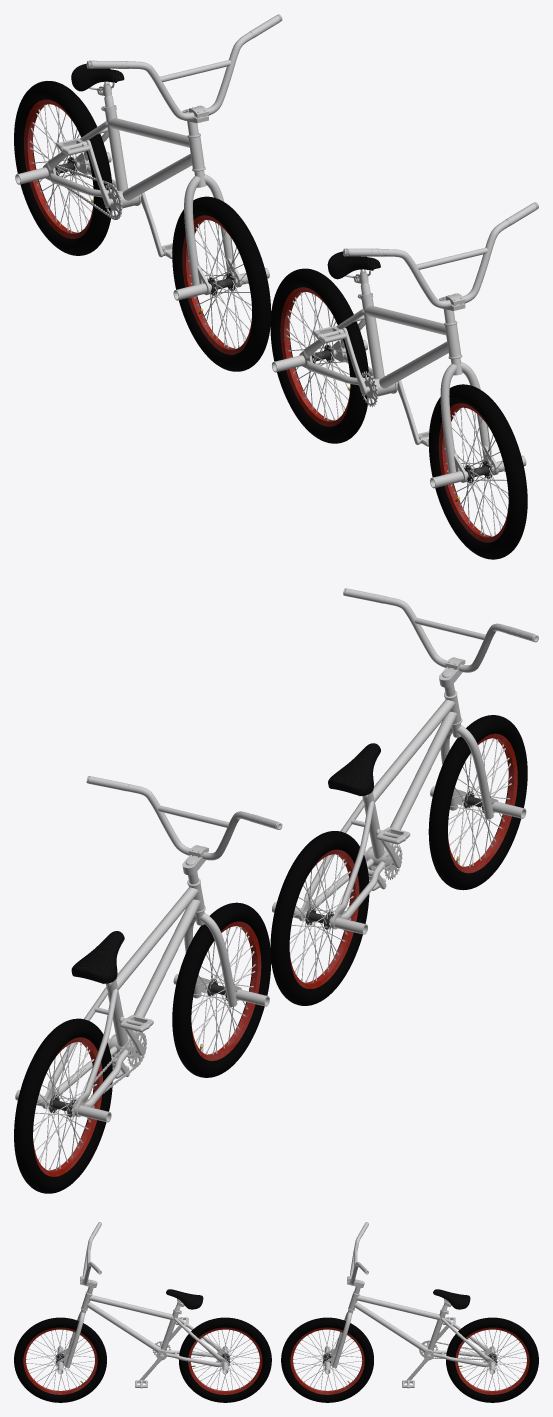
File: Cyclebroken.fbx
3 renders of one model, top to bottom at view 1: azimuth 30°, elevation 25°; view 2: azimuth 150°, elevation 25°; view 3: azimuth 270°, elevation 25°, orthographic. The views are drawn at different scales.
Parts seen in each view (by area): view 1: frame_low_Cylinder.195, tire_low_Torus.001, tire_low.001_Torus.001, frame_low_Cylinder.001, frontframe_low_Cylinder.001, rudder_low_BezierCurve.001, rim_low.001_Cylinder.001, rim_low_Cylinder.001, seater_low_Cube.001; view 2: frame_low_Cylinder.195, frame_low_Cylinder.001, tire_low_Torus.001, tire_low.001_Torus.001, rudder_low_BezierCurve.001, frontframe_low_Cylinder.001, seater_low_Cube.001, rim_low_Cylinder.001, rim_low.001_Cylinder.001; view 3: frame_low_Cylinder.195, tire_low_Torus.001, tire_low.001_Torus.001, frame_low_Cylinder.001, rim_low_Cylinder.001, rim_low.001_Cylinder.001, frontframe_low_Cylinder.001, seater_low_Cube.001, rudder_low_BezierCurve.001.
Part boxes in pixels (left/top/right/bottom): frame_low_Cylinder.195: left=270, top=202, right=538, bottom=559; tire_low_Torus.001: left=172, top=196, right=271, bottom=371; tire_low.001_Torus.001: left=14, top=81, right=112, bottom=255; frame_low_Cylinder.001: left=42, top=105, right=204, bottom=210; frontframe_low_Cylinder.001: left=184, top=109, right=242, bottom=295; rudder_low_BezierCurve.001: left=86, top=14, right=282, bottom=120; rim_low.001_Cylinder.001: left=24, top=99, right=93, bottom=238; rim_low_Cylinder.001: left=182, top=215, right=251, bottom=354; seater_low_Cube.001: left=71, top=63, right=124, bottom=91; frame_low_Cylinder.195: left=270, top=588, right=538, bottom=1005; frame_low_Cylinder.001: left=42, top=884, right=204, bottom=1117; tire_low_Torus.001: left=172, top=902, right=271, bottom=1077; tire_low.001_Torus.001: left=14, top=1018, right=112, bottom=1193; rudder_low_BezierCurve.001: left=86, top=776, right=282, bottom=860; frontframe_low_Cylinder.001: left=184, top=858, right=241, bottom=1006; seater_low_Cube.001: left=71, top=931, right=124, bottom=983; rim_low_Cylinder.001: left=191, top=921, right=261, bottom=1060; rim_low.001_Cylinder.001: left=33, top=1037, right=102, bottom=1176; frame_low_Cylinder.195: left=14, top=1222, right=271, bottom=1402; tire_low_Torus.001: left=281, top=1317, right=373, bottom=1402; tire_low.001_Torus.001: left=446, top=1317, right=538, bottom=1402; frame_low_Cylinder.001: left=348, top=1294, right=496, bottom=1367; rim_low_Cylinder.001: left=290, top=1327, right=364, bottom=1394; rim_low.001_Cylinder.001: left=455, top=1327, right=529, bottom=1394; frontframe_low_Cylinder.001: left=323, top=1280, right=362, bottom=1368; seater_low_Cube.001: left=433, top=1289, right=470, bottom=1309; rudder_low_BezierCurve.001: left=349, top=1222, right=368, bottom=1285.
Size of the model in its own units: 211 by 311 by 947.
